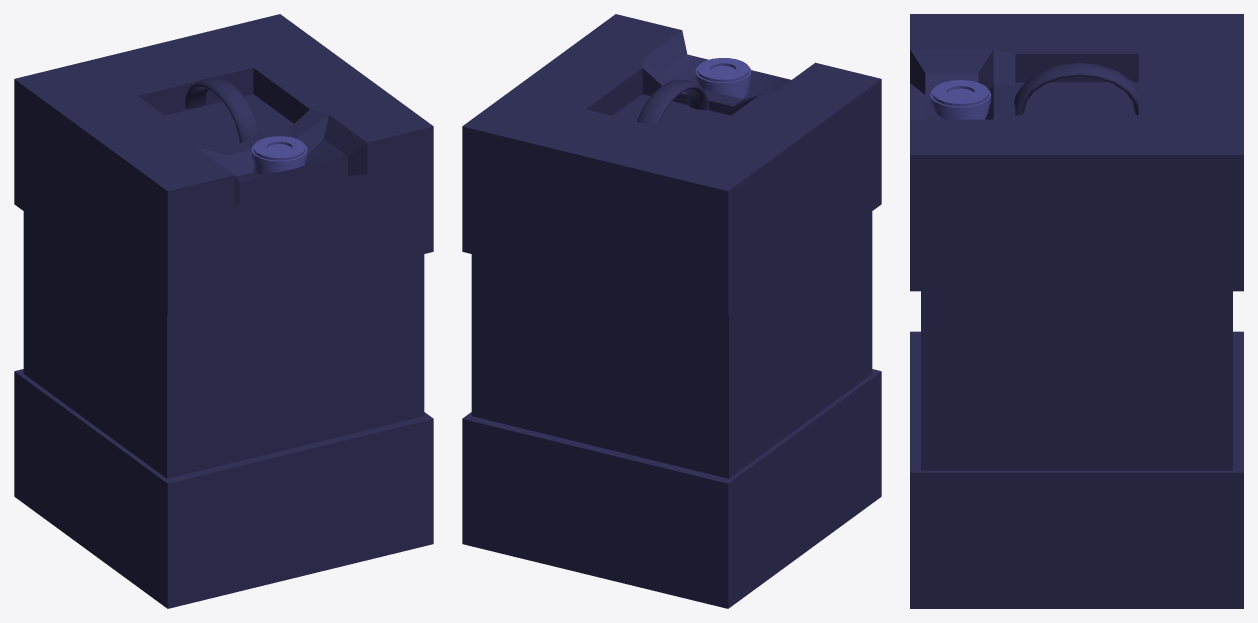
Rendered from WaterBucket.fbx.
3 renders of one model, left to right at view 1: azimuth 30°, elevation 25°; view 2: azimuth 150°, elevation 25°; view 3: azimuth 270°, elevation 25°, orthographic. The views are drawn at different scales.
Visible parts, largest first — view 1: polySurface1; view 2: polySurface1; view 3: polySurface1.
Part boxes in pixels (x1,y1,x2,y2): polySurface1: (14, 14, 433, 608); polySurface1: (462, 14, 881, 608); polySurface1: (910, 14, 1243, 608).
Bounding box in the file's own units: 2 × 3.13 × 2.
